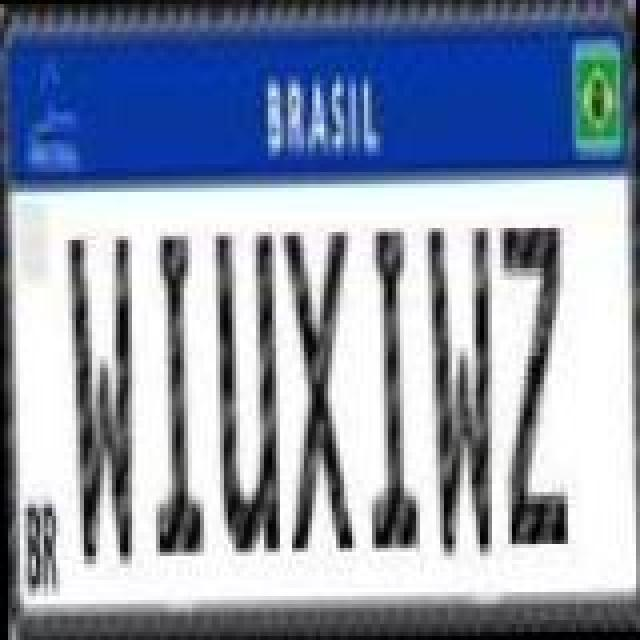I: (152, 230, 208, 554), (364, 226, 420, 550)
U: (216, 230, 280, 554)
W: (426, 228, 494, 564), (68, 236, 132, 572)
X: (284, 222, 356, 558)
Z: (500, 222, 564, 546)
